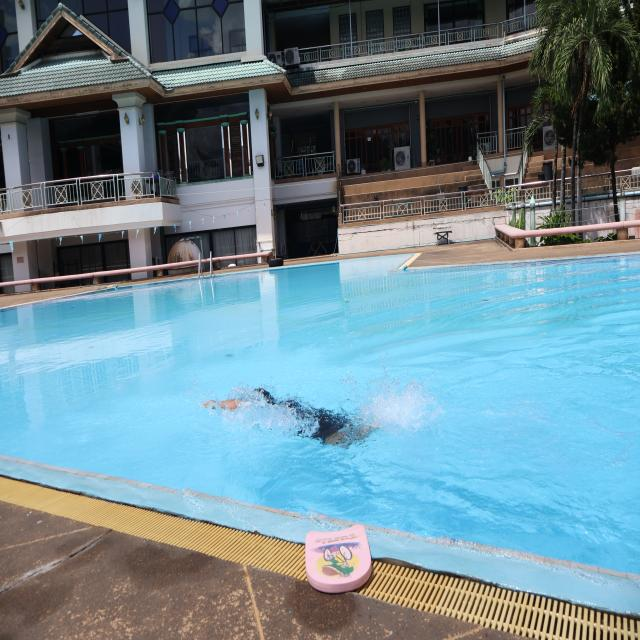Swimming: (197, 376, 375, 458)
